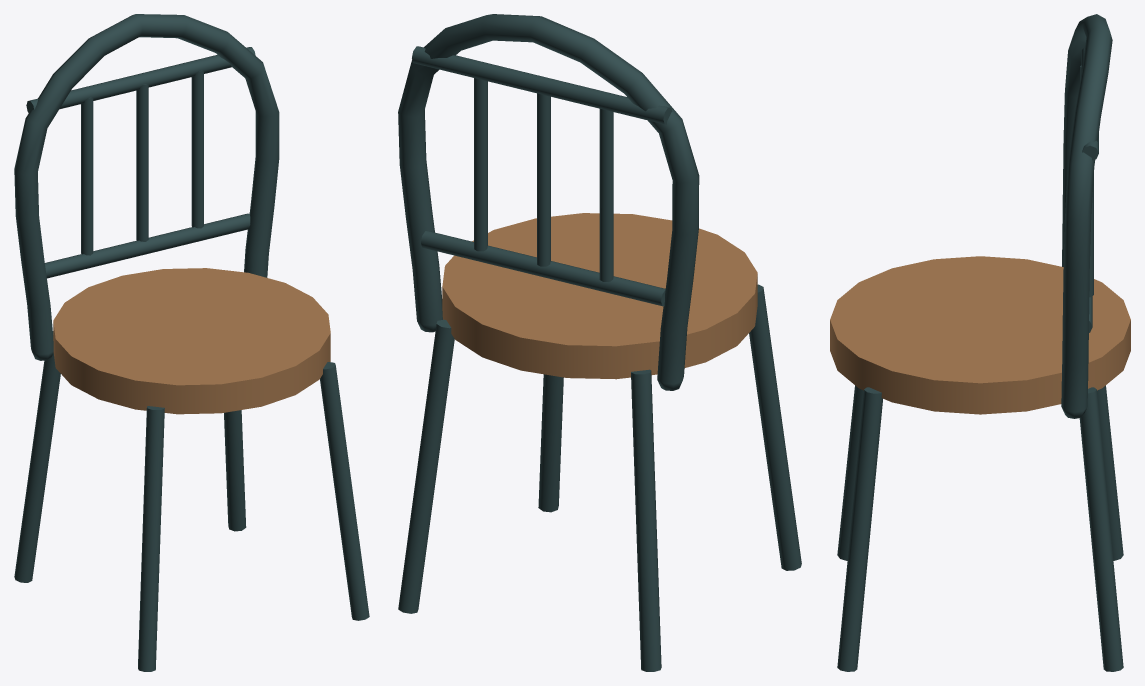
File: almanac-gardens-bistro-chair-7ac14d4b__22018.glb
3 renders of one model, left to right at view 1: azimuth 30°, elevation 25°; view 2: azimuth 150°, elevation 25°; view 3: azimuth 270°, elevation 25°, orthographic. The views are drawn at different scales.
Parts seen in each view (by area): view 1: bistro-chair-iron, bistro-chair-oak; view 2: bistro-chair-iron, bistro-chair-oak; view 3: bistro-chair-oak, bistro-chair-iron.
Boxes of the visible parts, x1,y1,x2,y2 form: bistro-chair-iron: [14, 14, 369, 671]; bistro-chair-oak: [53, 268, 330, 414]; bistro-chair-iron: [398, 14, 801, 671]; bistro-chair-oak: [442, 213, 757, 379]; bistro-chair-oak: [830, 256, 1130, 414]; bistro-chair-iron: [837, 14, 1123, 671].
Size of the model in its own units: 0.5217 by 1.03 by 0.48.
